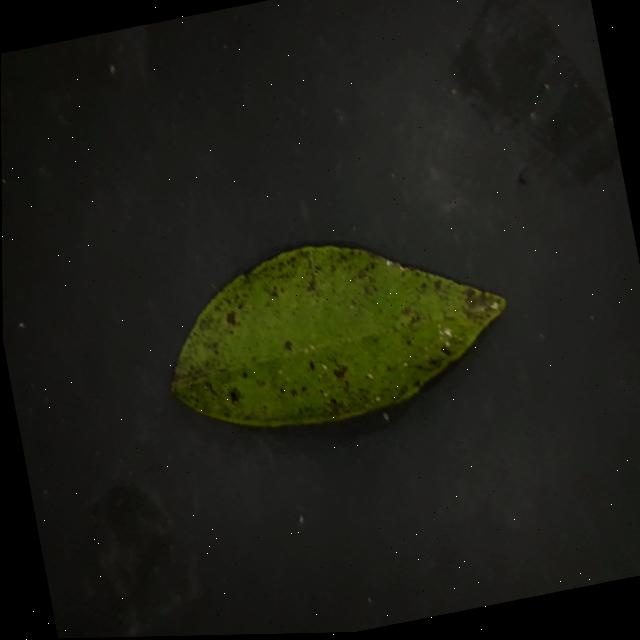greasy_spot: (170, 245, 504, 425)
